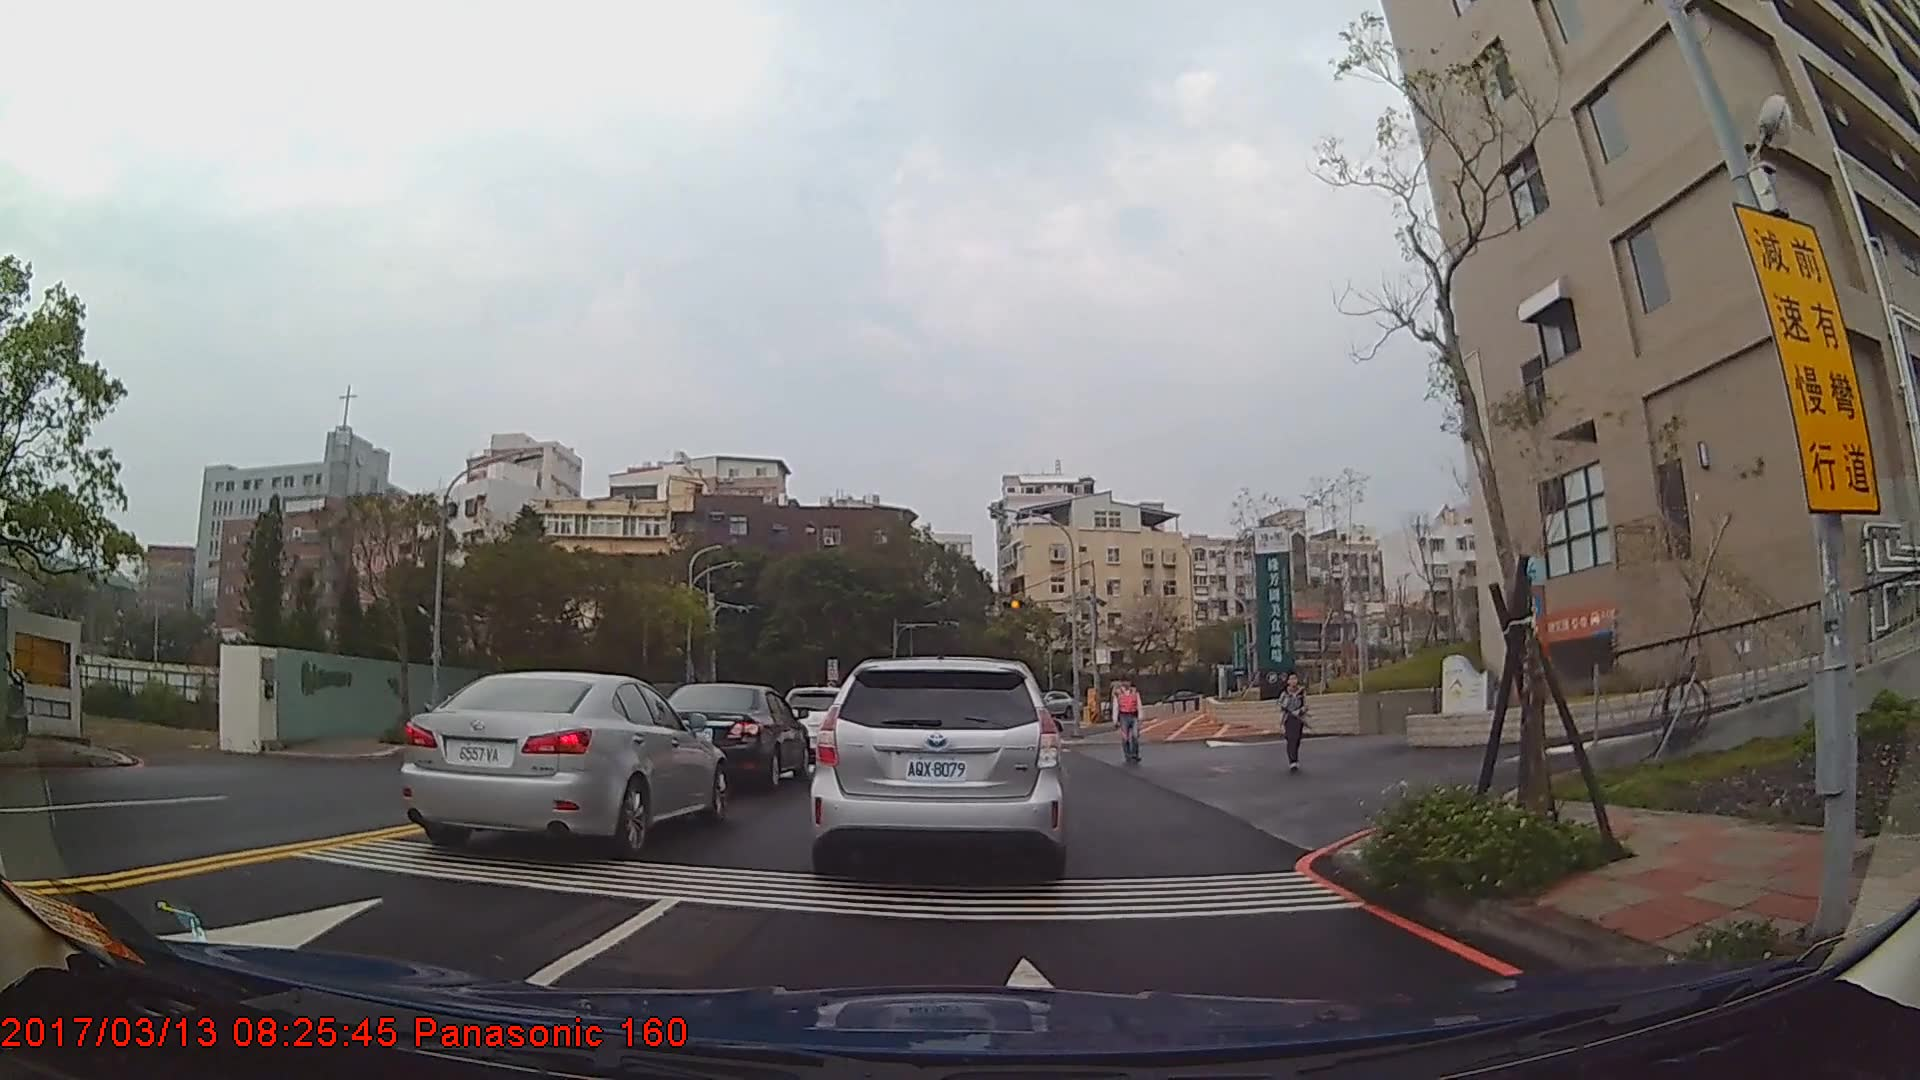pedestrian: (1280, 671, 1311, 773), (1116, 676, 1143, 767)
vehicle: (398, 670, 726, 853), (808, 654, 1067, 878), (652, 680, 810, 789)
